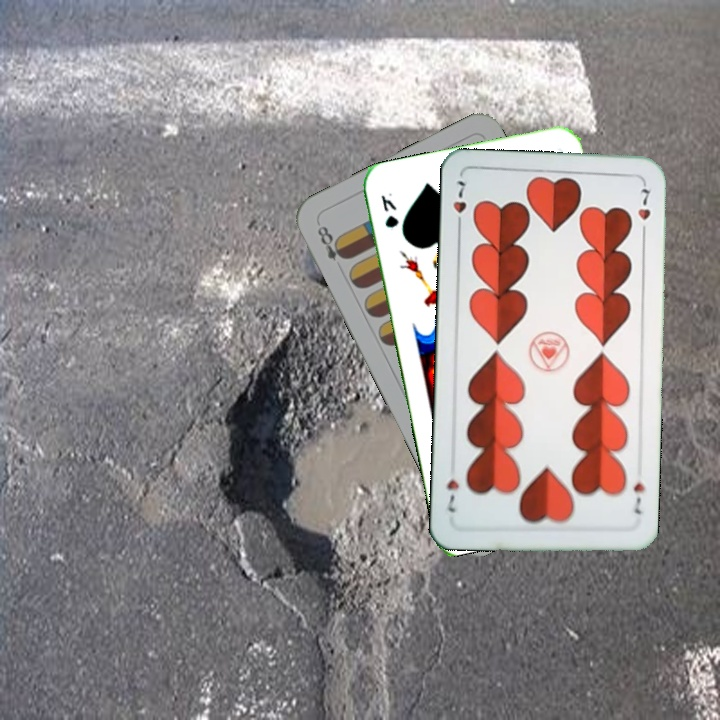E8: (313, 219, 350, 264)
GK: (377, 191, 402, 231)
H7: (449, 177, 469, 233), (630, 479, 647, 517)
